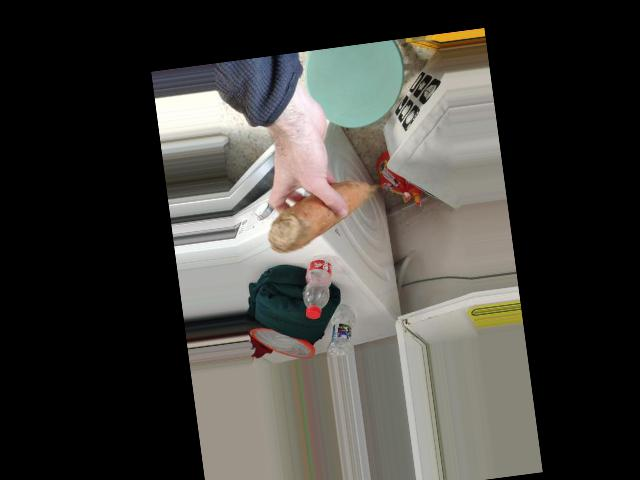sweet_potato: (268, 169, 375, 258)
